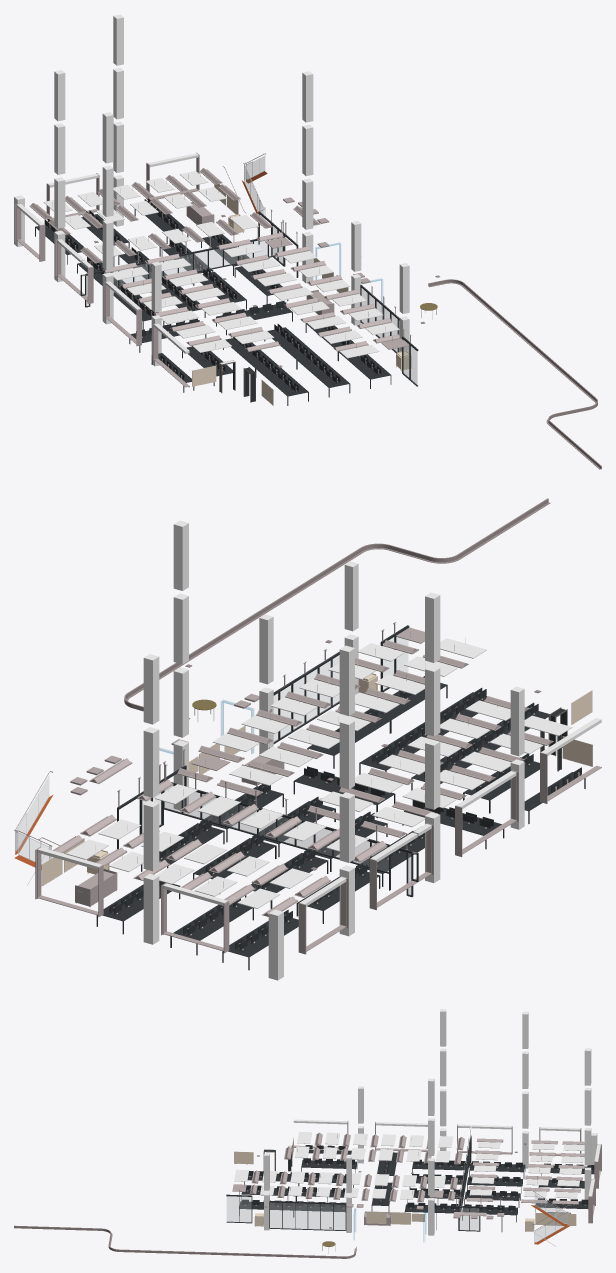
3 renders of one model, top to bottom at view 1: azimuth 30°, elevation 25°; view 2: azimuth 150°, elevation 25°; view 3: azimuth 270°, elevation 25°, orthographic. The views are drawn at different scales.
Visible parts, largest first — view 1: 3, 2, 1, 0, 7, 5; view 2: 3, 2, 1, 0, 7, 5; view 3: 3, 1, 2, 0, 5, 7.
Boxes of the visible parts, box(x1,y1,x2,y2) form: 3: box(14, 14, 436, 405); 2: box(15, 152, 411, 391); 1: box(35, 198, 418, 405); 0: box(86, 156, 417, 385); 7: box(94, 215, 601, 469); 5: box(192, 184, 411, 405); 3: box(15, 520, 601, 980); 2: box(14, 622, 601, 954); 1: box(96, 625, 585, 970); 0: box(15, 637, 410, 895); 7: box(124, 498, 550, 870); 5: box(42, 673, 592, 885); 3: box(234, 1009, 600, 1253); 1: box(226, 1135, 594, 1231); 2: box(232, 1121, 601, 1230); 0: box(227, 1149, 566, 1241); 5: box(234, 1138, 576, 1232); 7: box(14, 1151, 517, 1258).
Size of the model in its own units: 24.4 by 15.7 by 53.51.
